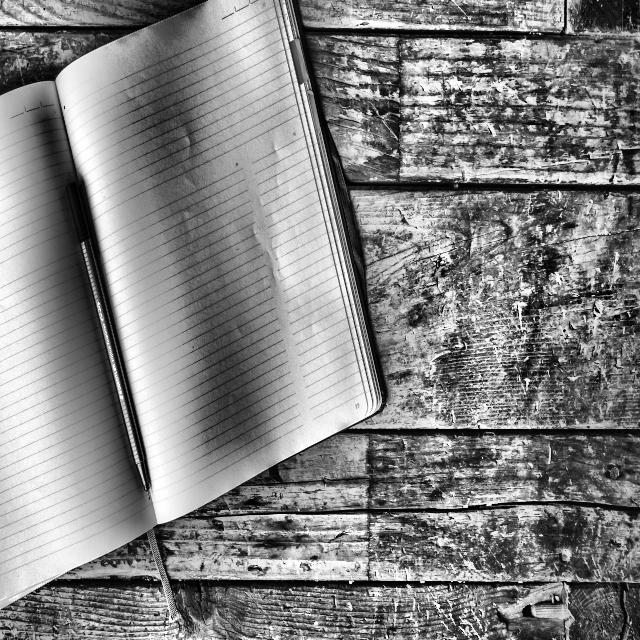Notebook: (0, 0, 386, 613)
Pen: (65, 176, 154, 499)
